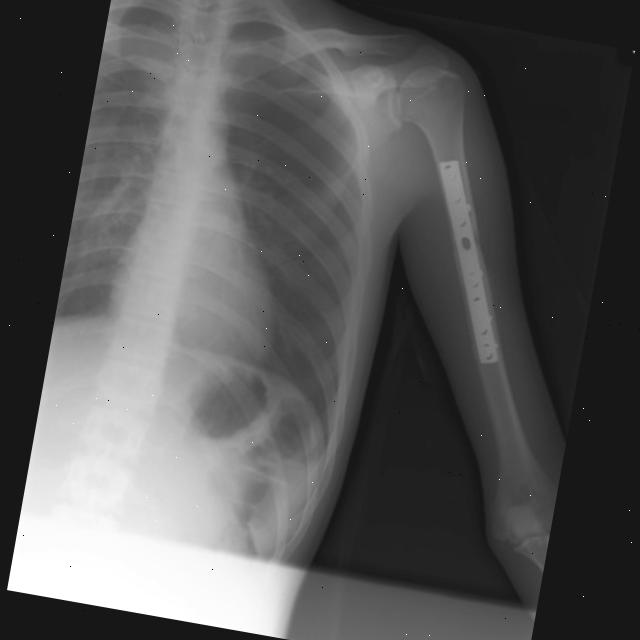Fracture: (443, 233, 460, 252), (469, 231, 484, 250)
